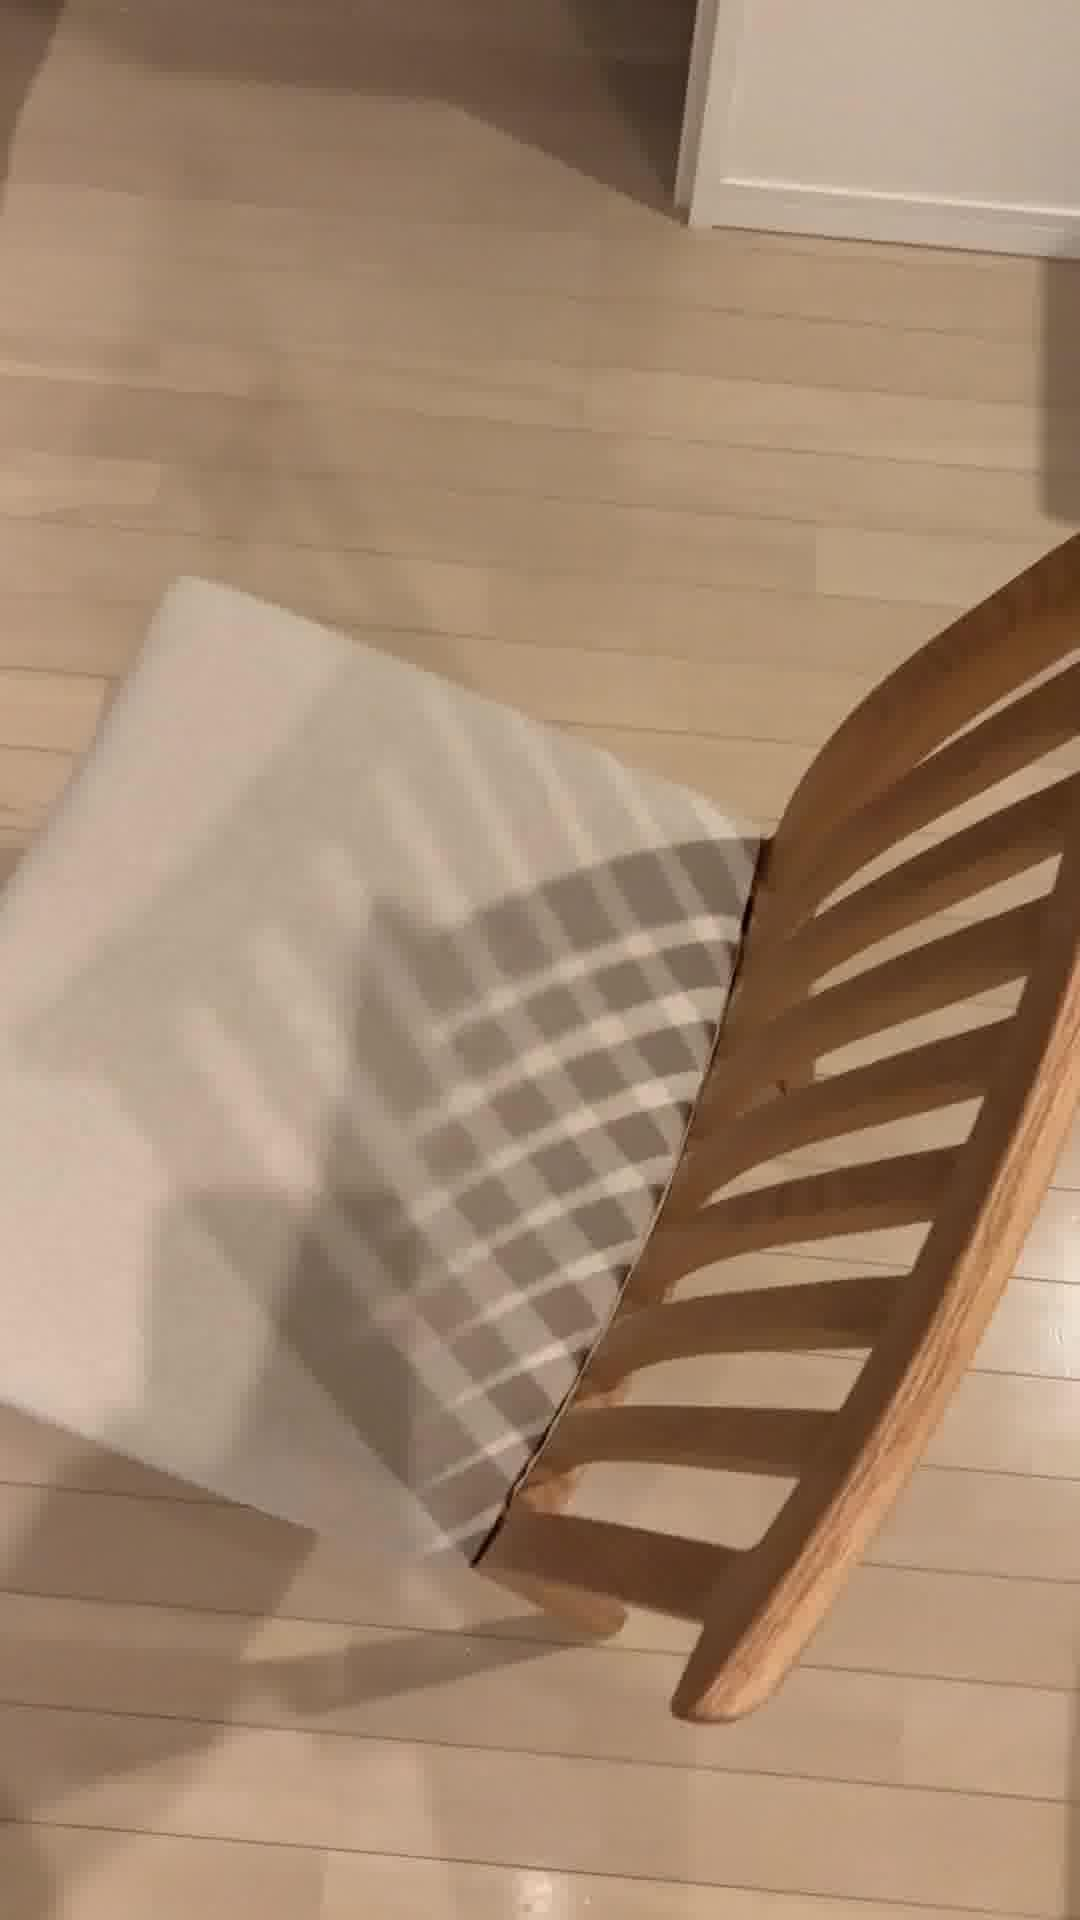takumikan-chair: (0, 527, 1080, 1731)
